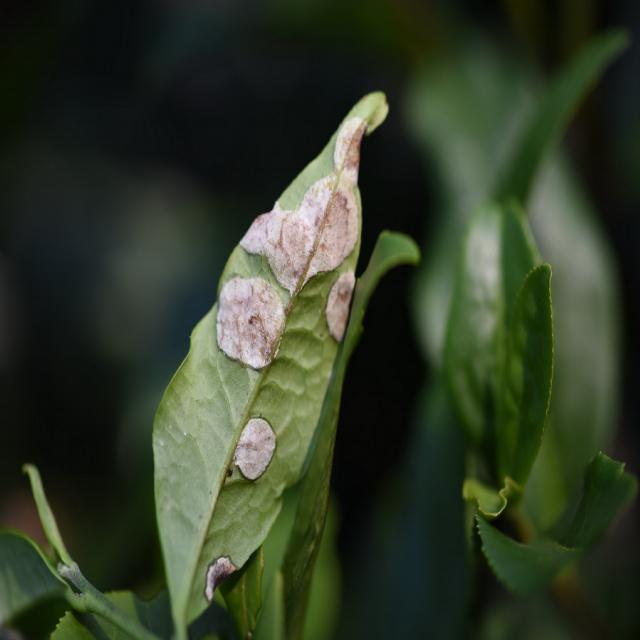Tea cake: (240, 181, 366, 278), (218, 278, 282, 373), (228, 413, 285, 484), (325, 109, 373, 179), (323, 262, 359, 339), (202, 556, 242, 600)
